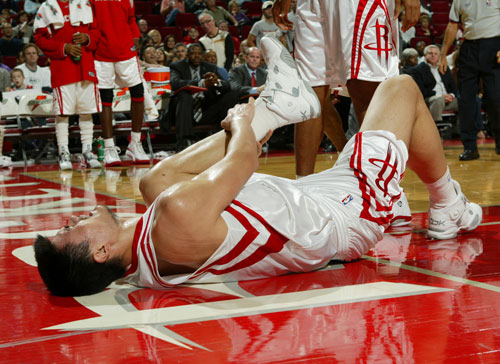10+: (1, 1, 497, 304)
down: (29, 28, 488, 300)
